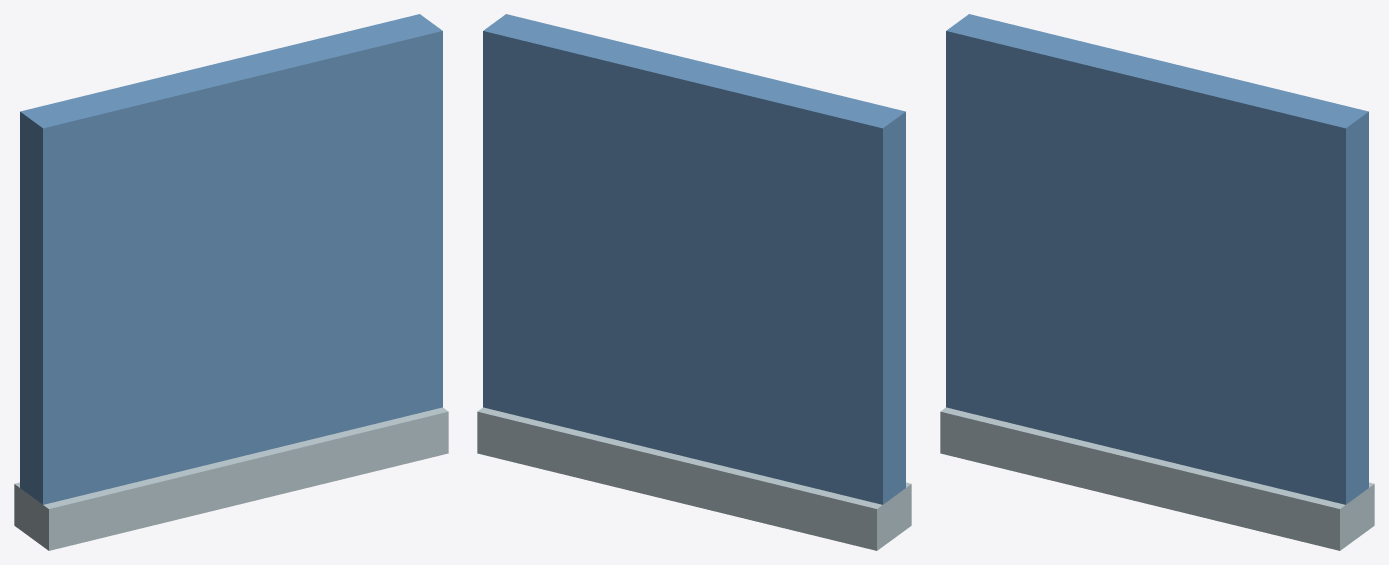
The model's file is wall.obj.
3 views of the same model, side by side, from view 1: azimuth 30°, elevation 25°; view 2: azimuth 150°, elevation 25°; view 3: azimuth 330°, elevation 25° (orthographic).
Bounding box in the file's own units: 4 × 4 × 0.6.
1 material, 1 textured.
